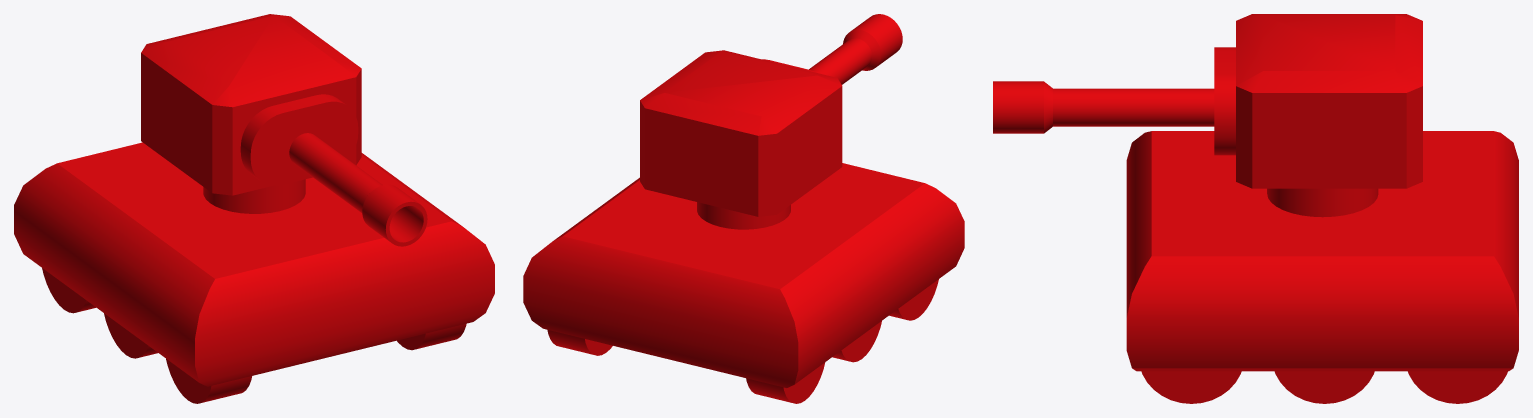
File: Player2Tank.fbx
The picture shows the model from 3 angles, left to right: view 1: azimuth 30°, elevation 25°; view 2: azimuth 150°, elevation 25°; view 3: azimuth 270°, elevation 25°; orthographic projection. The views are drawn at different scales.
Visible parts, largest first — view 1: Tank(Player); view 2: Tank(Player); view 3: Tank(Player).
Boxes of the visible parts, x1,y1,x2,y2 form: Tank(Player): (14, 14, 494, 403); Tank(Player): (523, 14, 964, 403); Tank(Player): (993, 14, 1518, 403).
Bounding box in the file's own units: 879 × 758 × 1233.
